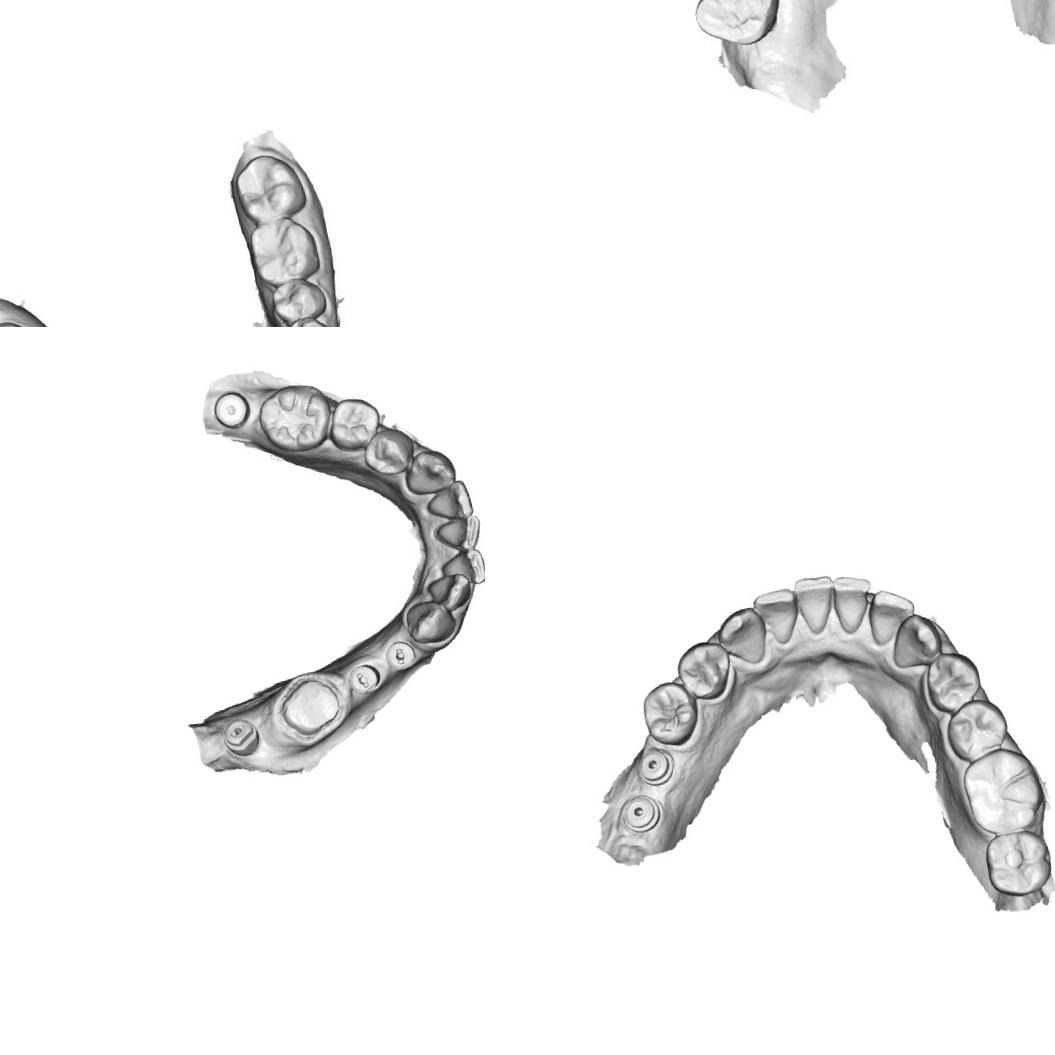canine: (884, 607, 947, 674), (712, 602, 771, 670), (400, 444, 459, 498), (402, 596, 458, 646)
crown: (270, 670, 350, 746)
implant: (617, 789, 666, 836), (632, 744, 678, 790), (210, 388, 252, 431)
implant_minus: (218, 712, 266, 762), (344, 660, 384, 697), (380, 637, 419, 672)
incisor: (748, 583, 809, 651), (862, 583, 922, 649), (790, 570, 844, 638), (828, 570, 880, 638), (422, 476, 476, 524), (432, 512, 485, 556), (424, 570, 474, 615), (437, 545, 485, 589)
molar: (956, 740, 1050, 841), (252, 378, 337, 458), (976, 824, 1055, 904), (234, 151, 304, 222), (248, 216, 320, 282), (685, 0, 781, 40)
premolar: (939, 692, 1014, 765), (636, 674, 704, 750), (917, 646, 987, 718), (669, 634, 737, 707), (322, 392, 384, 454), (358, 424, 419, 480), (272, 274, 328, 327), (286, 312, 340, 327)
